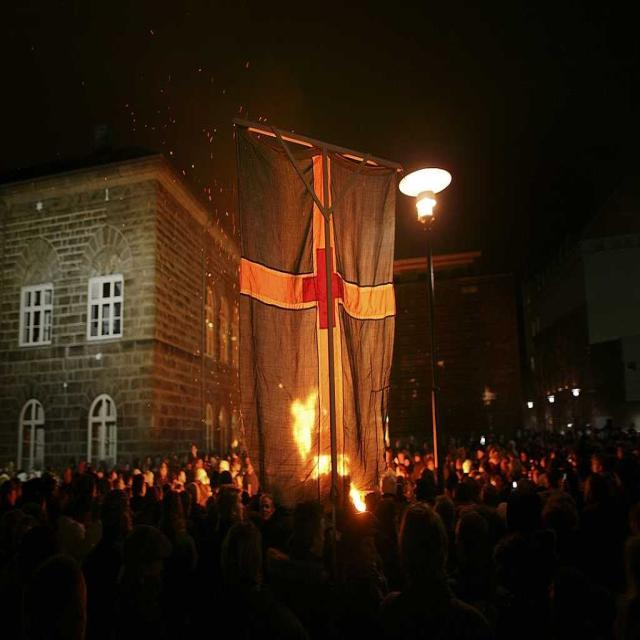Fire: (295, 400, 314, 450), (319, 453, 346, 476), (350, 485, 366, 514)
